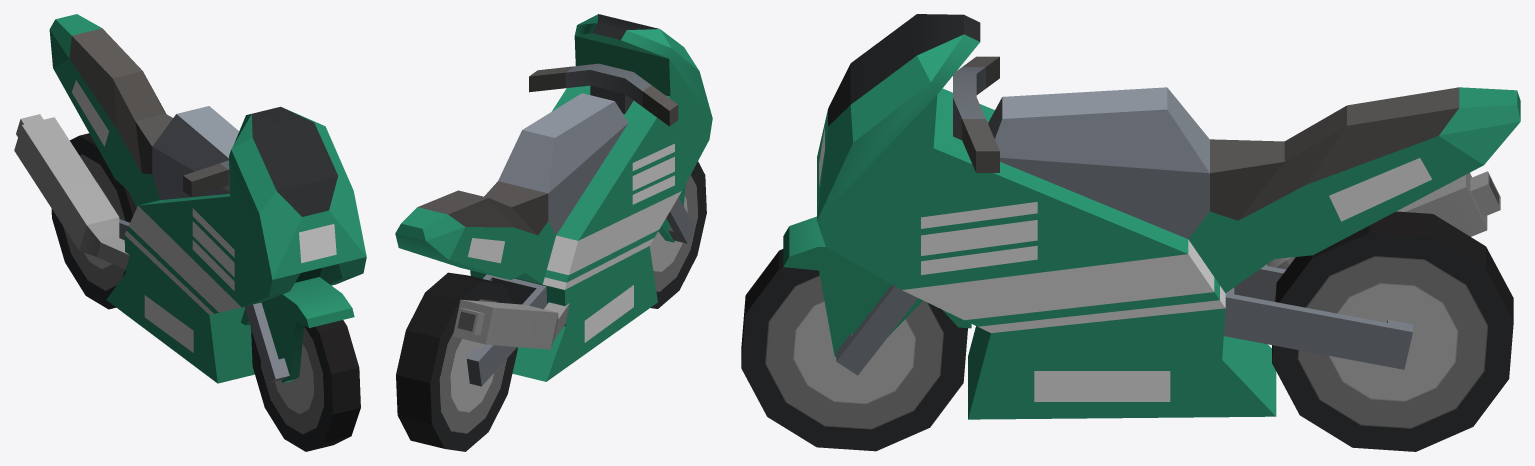
File: greenBike.glb
The picture shows the model from 3 angles, left to right: view 1: azimuth 30°, elevation 25°; view 2: azimuth 150°, elevation 25°; view 3: azimuth 270°, elevation 25°; orthographic projection. The views are drawn at different scales.
Parts seen in each view (by area): view 1: SR_Veh_MotorBike_Green, SR_Veh_MotorBike_Wheel_F, SR_Veh_MotorBike_Wheel_R; view 2: SR_Veh_MotorBike_Green, SR_Veh_MotorBike_Wheel_R, SR_Veh_MotorBike_Wheel_F; view 3: SR_Veh_MotorBike_Green, SR_Veh_MotorBike_Wheel_R, SR_Veh_MotorBike_Wheel_F.
Part boxes in pixels (x1,y1,x2,y2): SR_Veh_MotorBike_Green: [14, 14, 366, 383]; SR_Veh_MotorBike_Wheel_F: [251, 320, 360, 451]; SR_Veh_MotorBike_Wheel_R: [51, 133, 136, 309]; SR_Veh_MotorBike_Green: [395, 14, 712, 386]; SR_Veh_MotorBike_Wheel_R: [396, 272, 517, 451]; SR_Veh_MotorBike_Wheel_F: [649, 161, 706, 308]; SR_Veh_MotorBike_Green: [783, 14, 1520, 419]; SR_Veh_MotorBike_Wheel_R: [1272, 211, 1513, 451]; SR_Veh_MotorBike_Wheel_F: [741, 249, 967, 451].
Bounding box in the file's own units: 0.0107 × 0.022 × 0.0372.
Materials: 1 (1 with a texture image).
